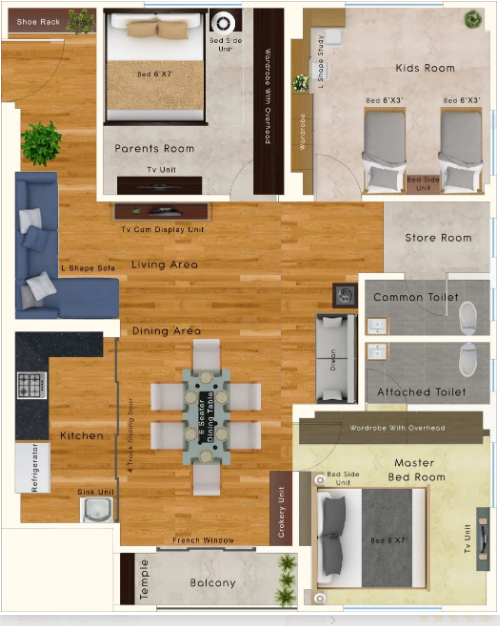balcony: (113, 546, 298, 616)
room: (285, 1, 496, 203), (298, 404, 496, 614), (96, 1, 292, 201), (1, 319, 121, 530), (357, 336, 498, 413), (358, 273, 496, 343)
